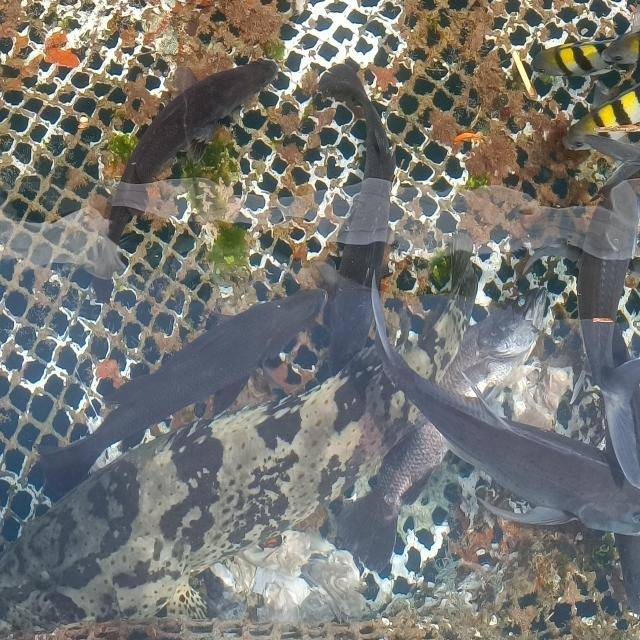ikan: (365, 230, 639, 539), (38, 284, 329, 503), (105, 55, 279, 248), (561, 82, 639, 153), (530, 30, 638, 79)
